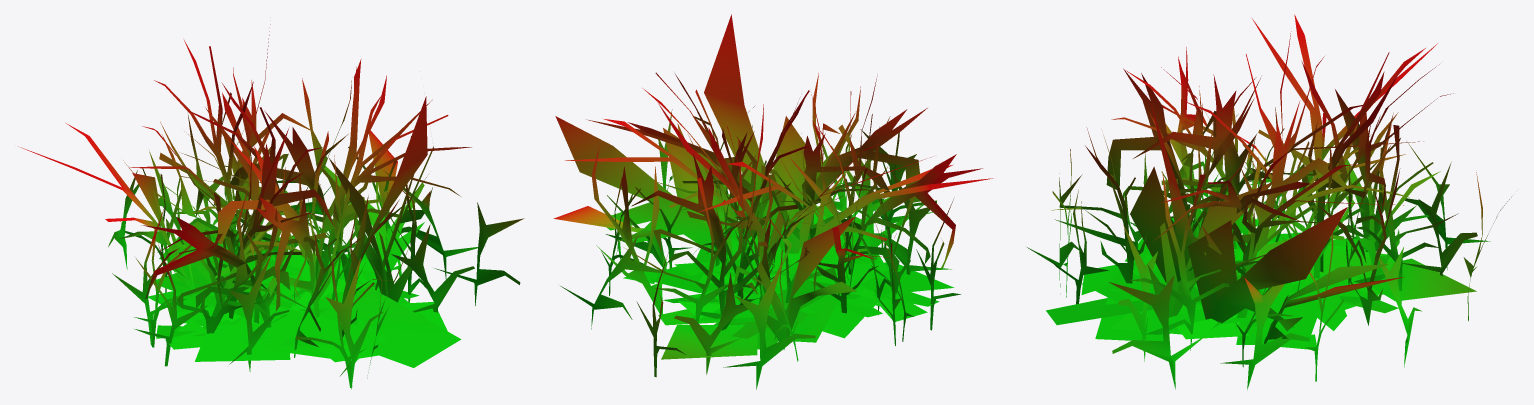
The model's file is Kikuyu Grass_LOD4_Var3_wiljearqx.fbx.
3 views of the same model, side by side, from view 1: azimuth 30°, elevation 25°; view 2: azimuth 150°, elevation 25°; view 3: azimuth 270°, elevation 25° (orthographic). The views are drawn at different scales.
Parts seen in each view (by area): view 1: _rwqe_Var3_LOD4; view 2: _rwqe_Var3_LOD4; view 3: _rwqe_Var3_LOD4.
Boxes of the visible parts, bbox=[...] form: _rwqe_Var3_LOD4: bbox=[18, 24, 524, 389]; _rwqe_Var3_LOD4: bbox=[554, 14, 993, 389]; _rwqe_Var3_LOD4: bbox=[1027, 14, 1511, 390].
Size of the model in its own units: 76.3 by 48.17 by 81.74.
